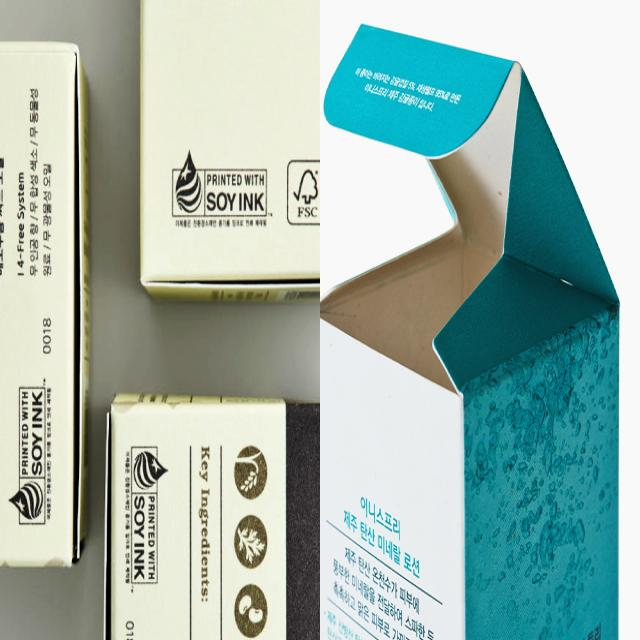cardboard: (322, 25, 619, 640), (132, 0, 320, 322), (0, 21, 97, 589), (103, 383, 295, 640)
